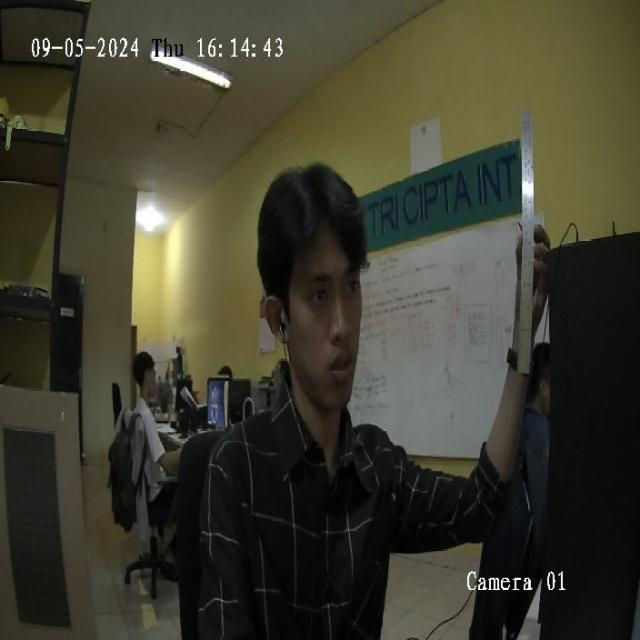Ruler: (517, 113, 534, 372)
